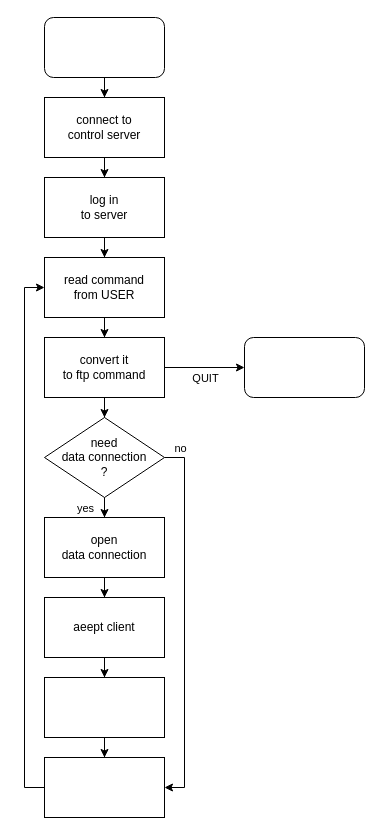
This 382x835 diagram has some shape labels left out. The shapes that lost their labels are listed below. From the top down, each one's centre as x and y in pixels, then its label:
At point (104, 47): "start".
At point (304, 367): "end".
At point (104, 707): "data send or receive".
At point (104, 787): "receive code from server".
